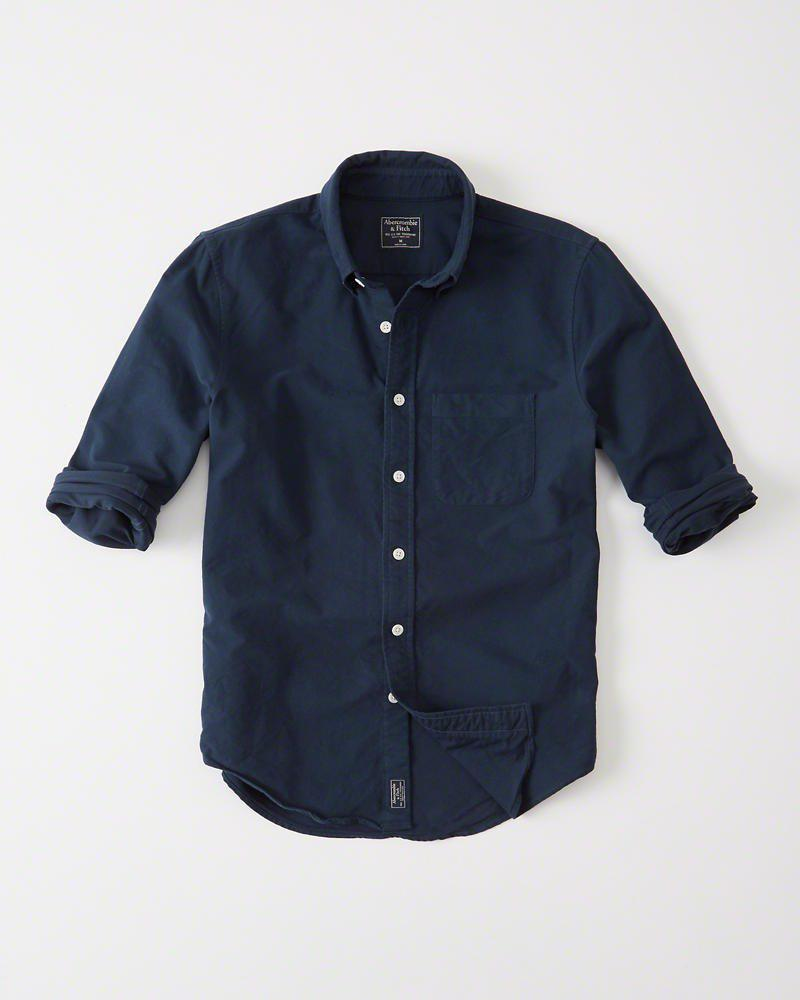teeshirt: (67, 140, 789, 850)
